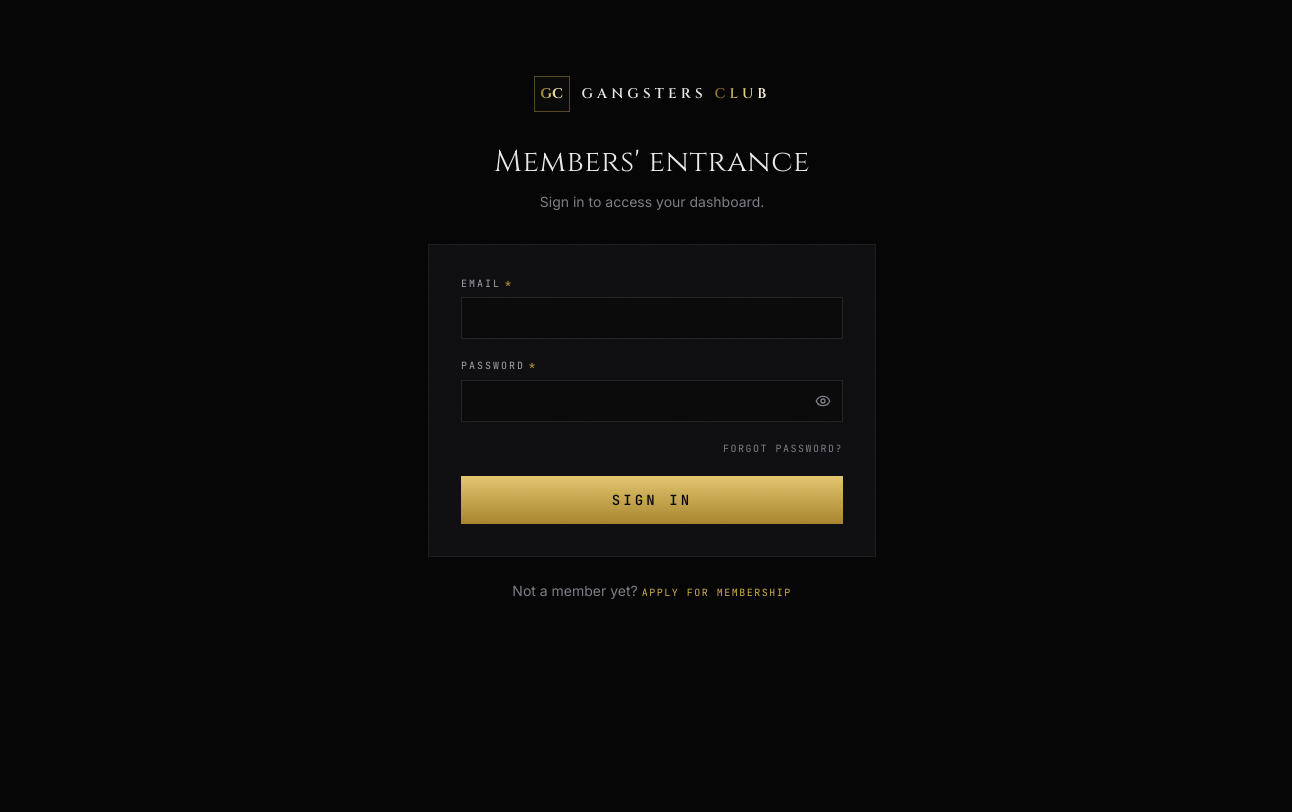
sign-in redirect › sends an administrator to the admin console
Step 1. Type "owner@gangstersclub.com" into the field labelled "Email*" → coordinates (652, 318), box [461,297,843,339]
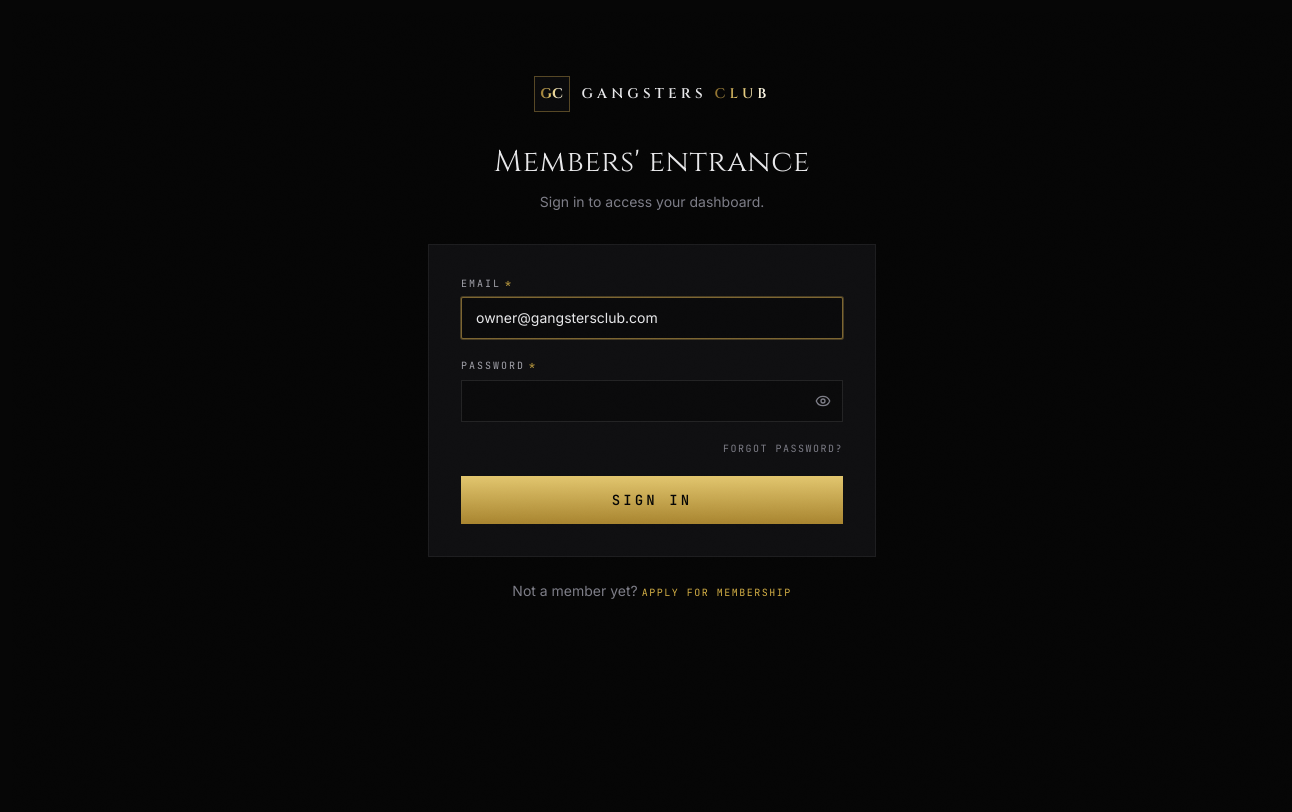
Step 2. Type "secret-password" into the password field labelled "Password*" → coordinates (652, 401), box [461,380,843,422]
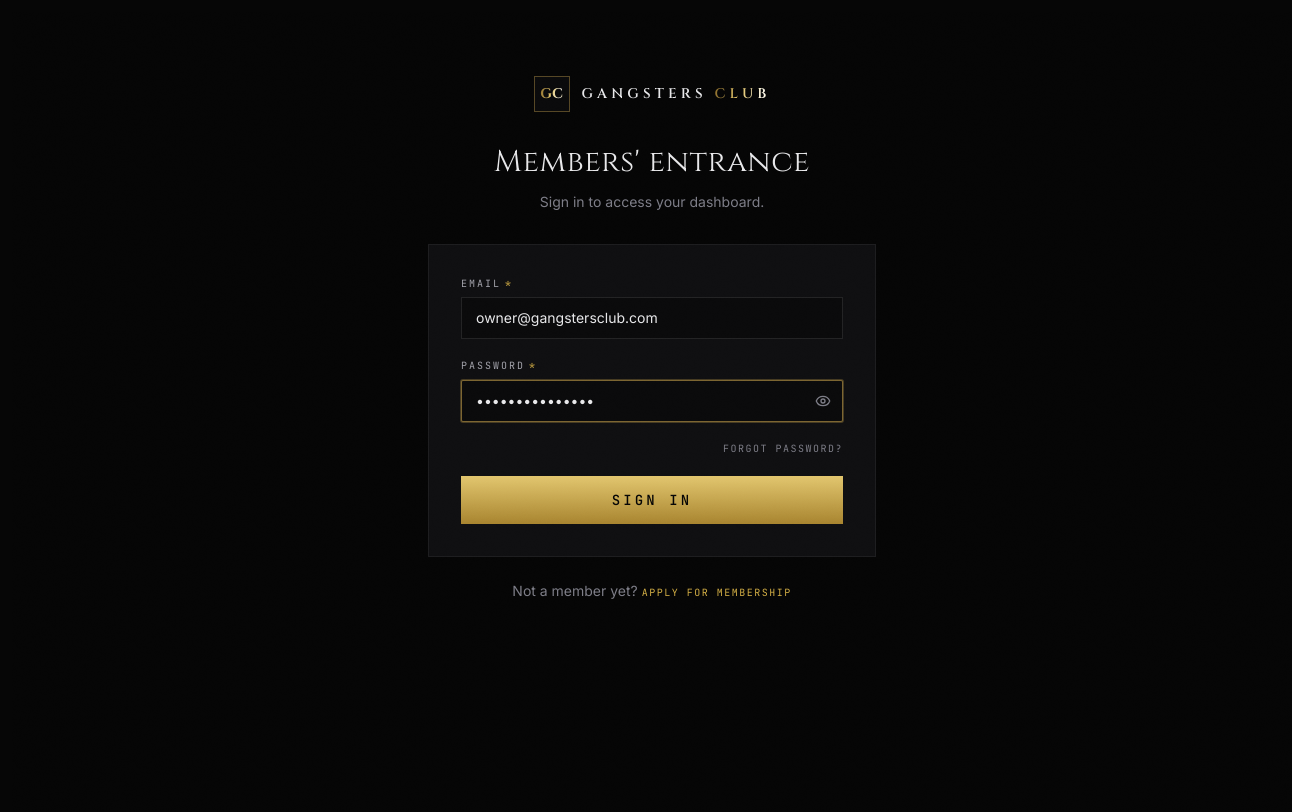
Step 3. Click the button "Sign In" → coordinates (652, 500), box [461,476,843,524]
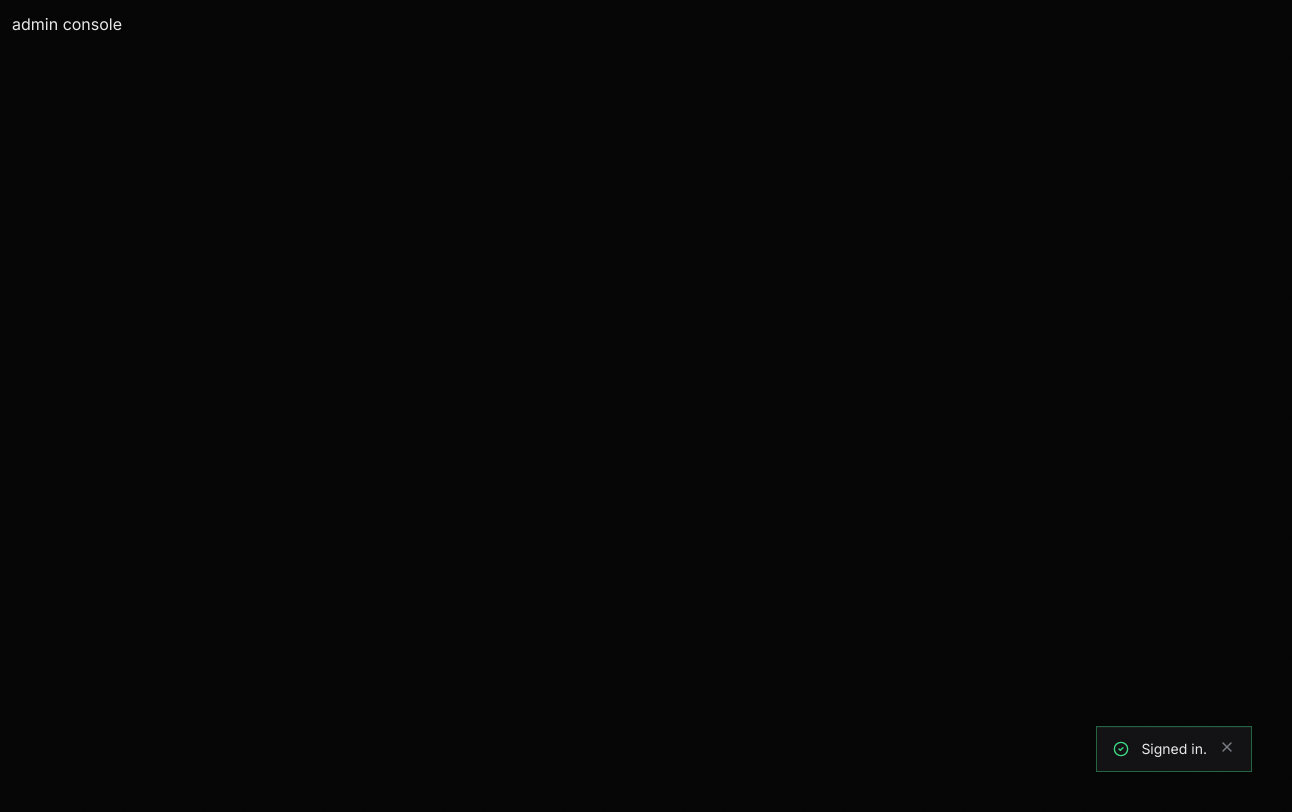
Result: the text "admin console" is shown at [12,14,122,34]
